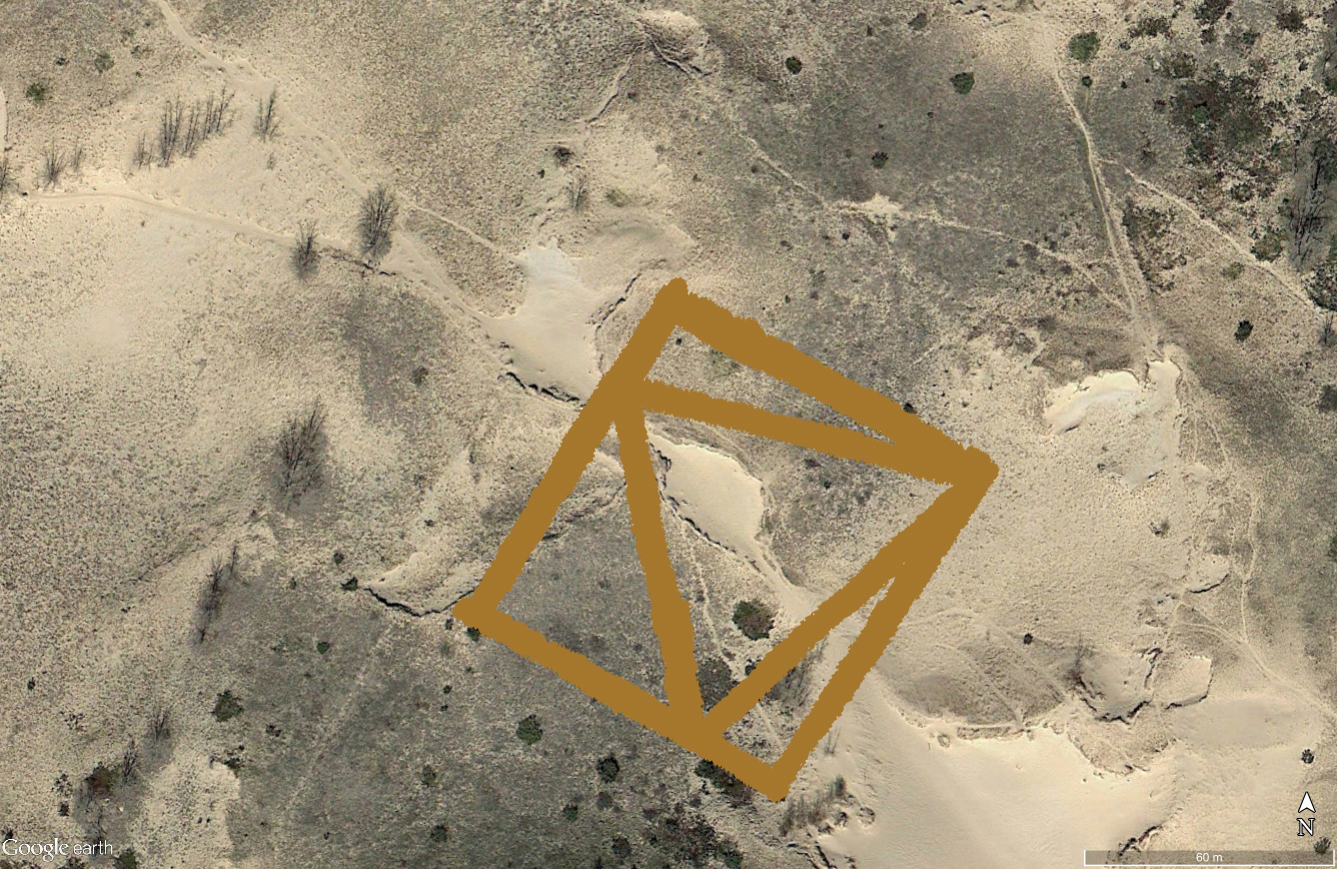marker: (448, 266, 1005, 815)
